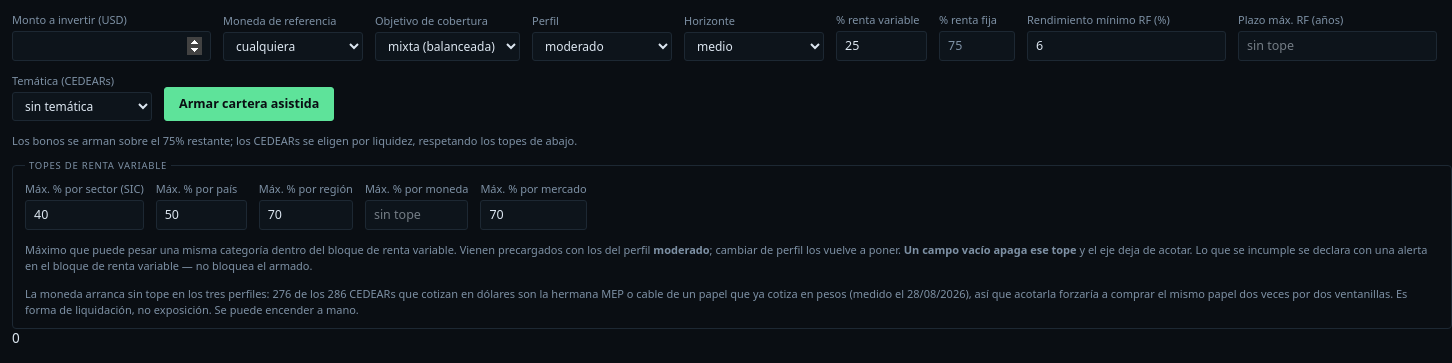
it: PanelArmadoAsistido › el monto del asistido es el mismo capital que reparte la cartera, no un campo aparte
Type "80000" into the number field labelled "Monto a invertir (USD)" at (112, 46), box x1=12 y1=31 x2=211 y2=61
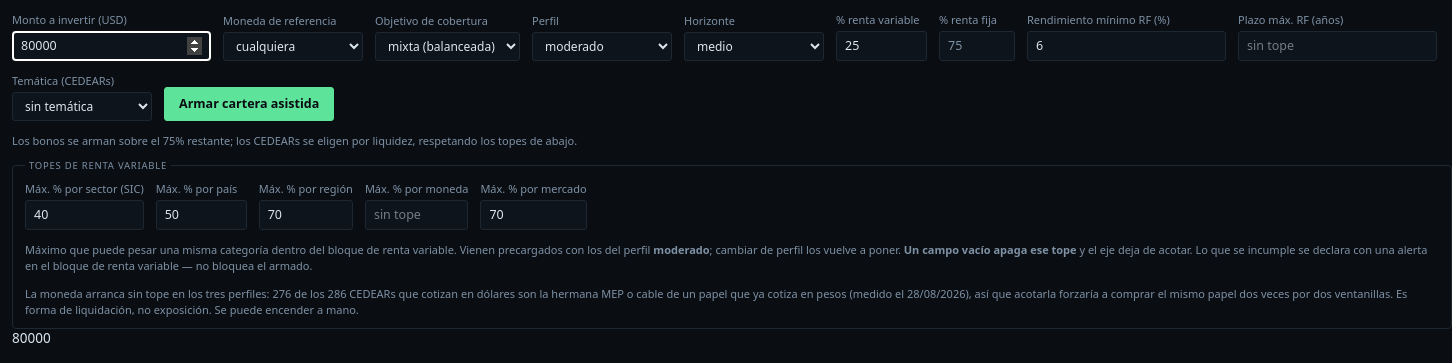
Expected: the text with test id "montoTotal" reads "80000", x1=12 y1=328 x2=51 y2=346
